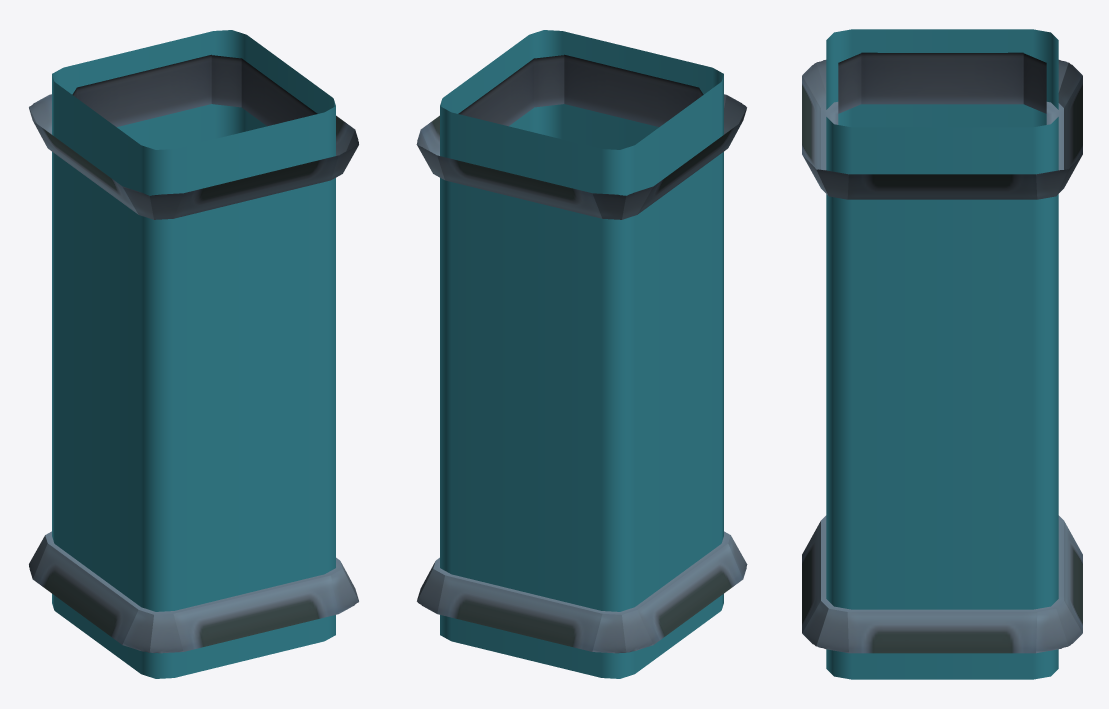
File: obj_interactive_pipe4.fbx
3 views of the same model, side by side, from view 1: azimuth 30°, elevation 25°; view 2: azimuth 150°, elevation 25°; view 3: azimuth 270°, elevation 25° (orthographic). The views are drawn at different scales.
Visible parts, largest first — view 1: obj_interactive_pipe04; view 2: obj_interactive_pipe04; view 3: obj_interactive_pipe04.
Part boxes in pixels (bbox=[...]): obj_interactive_pipe04: bbox=[29, 30, 358, 678]; obj_interactive_pipe04: bbox=[416, 30, 747, 678]; obj_interactive_pipe04: bbox=[802, 29, 1082, 679].
Bounding box in the file's own units: 2 × 4 × 2.
